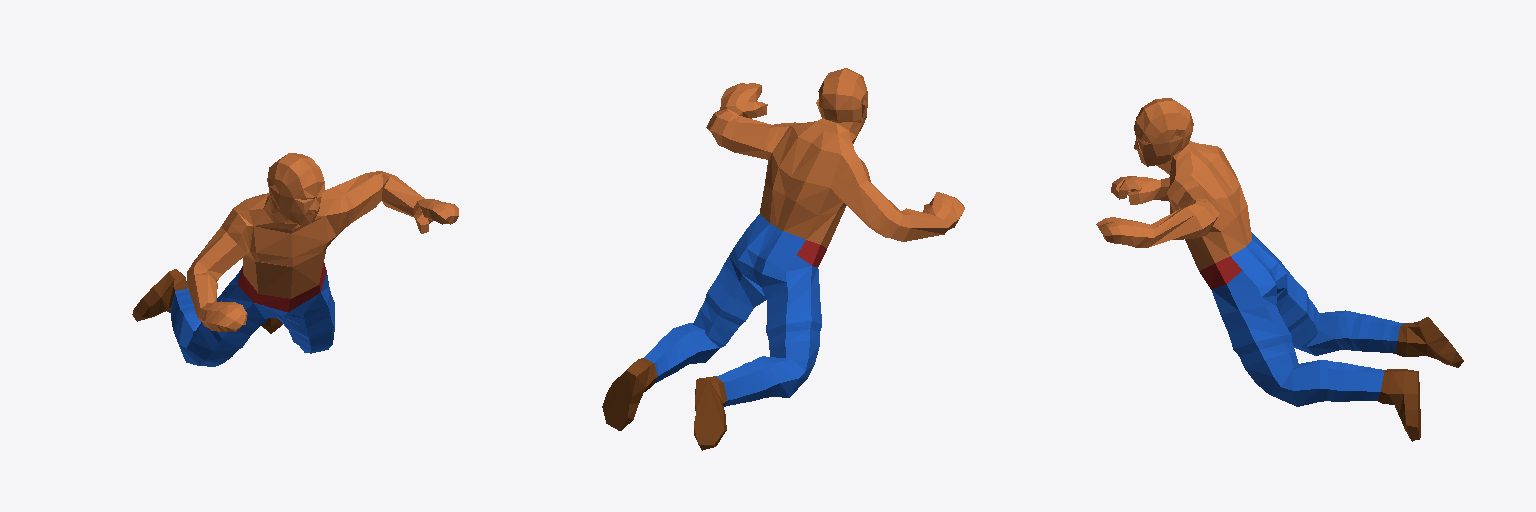
File: meV2_L2.obj
3 renders of one model, left to right at view 1: azimuth 30°, elevation 25°; view 2: azimuth 150°, elevation 25°; view 3: azimuth 270°, elevation 25°, orthographic.
Parts seen in each view (by area): view 1: male_Circle.008; view 2: male_Circle.008; view 3: male_Circle.008.
Boxes of the visible parts, box(x1,y1,x2,y2) form: male_Circle.008: box(132, 153, 458, 366); male_Circle.008: box(602, 68, 964, 450); male_Circle.008: box(1096, 98, 1463, 441).
Bounding box in the file's own units: 2.17 × 2.51 × 2.86.